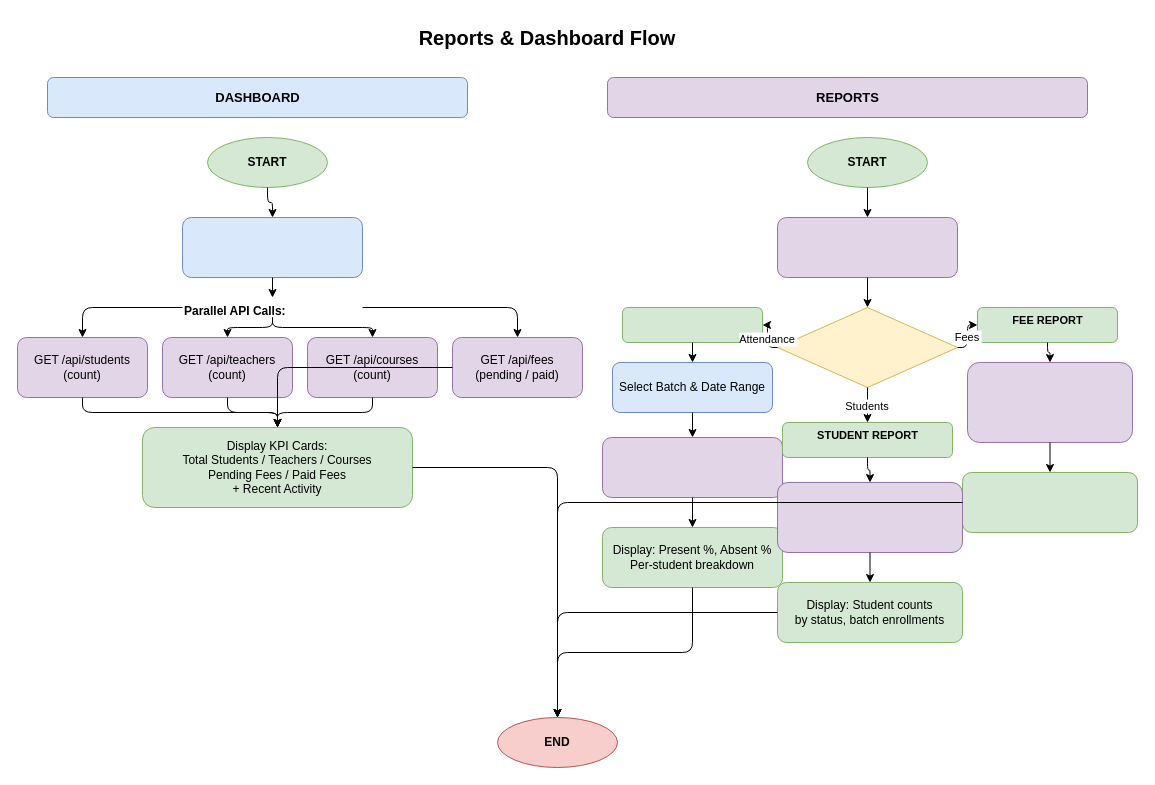
Some shapes in this 1155 by 785 pixel diagram are drawn without their labels. The shapes that lost their labels are listed below. From the top down, each one's box as (x1, y1, x2, y2) in pixels, then its label:
(182, 216, 362, 278): User Logs In Redirected to Dashboard
(776, 216, 958, 278): Navigate to Reports Page (Protected Route)
(622, 306, 762, 342): ATTENDANCE REPORT
(776, 306, 958, 388): Select Report Type
(966, 362, 1132, 442): GET /api/reports/fees Query: Paid, Pending, Overdue totals and amounts
(602, 436, 782, 498): GET /api/reports/attendance {batch_id, start, end}
(776, 482, 962, 552): GET /api/reports/students Status breakdown: Active / Inactive / Graduated
(962, 472, 1138, 532): Display: Total Paid, Total Pending Overdue Fees List
